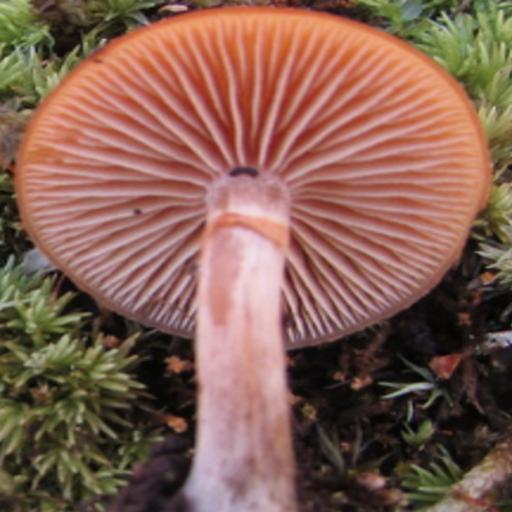mushroom: (11, 3, 495, 419)
